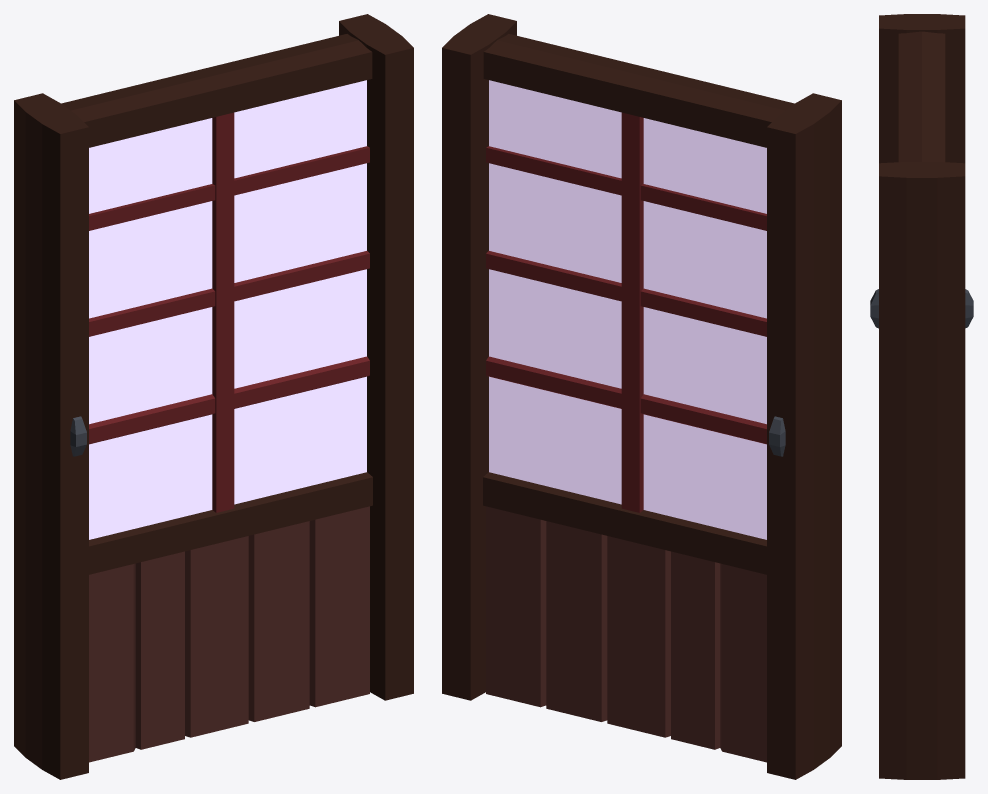
Rendered from Door_3_1  Asia.fbx.
3 views of the same model, side by side, from view 1: azimuth 30°, elevation 25°; view 2: azimuth 150°, elevation 25°; view 3: azimuth 270°, elevation 25° (orthographic). The views are drawn at different scales.
Parts seen in each view (by area): view 1: Door_3_1; view 2: Door_3_1; view 3: Door_3_1.
Boxes of the visible parts, left/top/right/bottom form: Door_3_1: left=14, top=14, right=413, bottom=779; Door_3_1: left=442, top=14, right=841, bottom=779; Door_3_1: left=870, top=14, right=973, bottom=779.
Size of the model in its own units: 1.14 by 1.96 by 0.3032.
